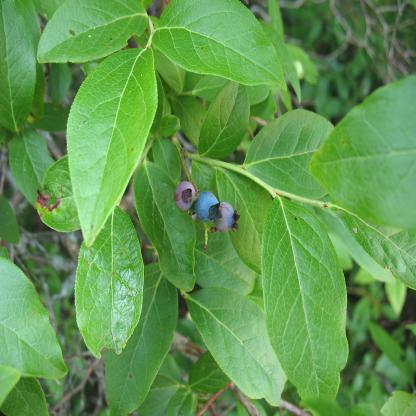blueberry leaf: (253, 184, 360, 415), (60, 46, 160, 246), (308, 67, 416, 241), (174, 280, 288, 415), (62, 187, 144, 373), (154, 2, 305, 102), (122, 156, 202, 305), (236, 109, 359, 205), (192, 78, 255, 176)
